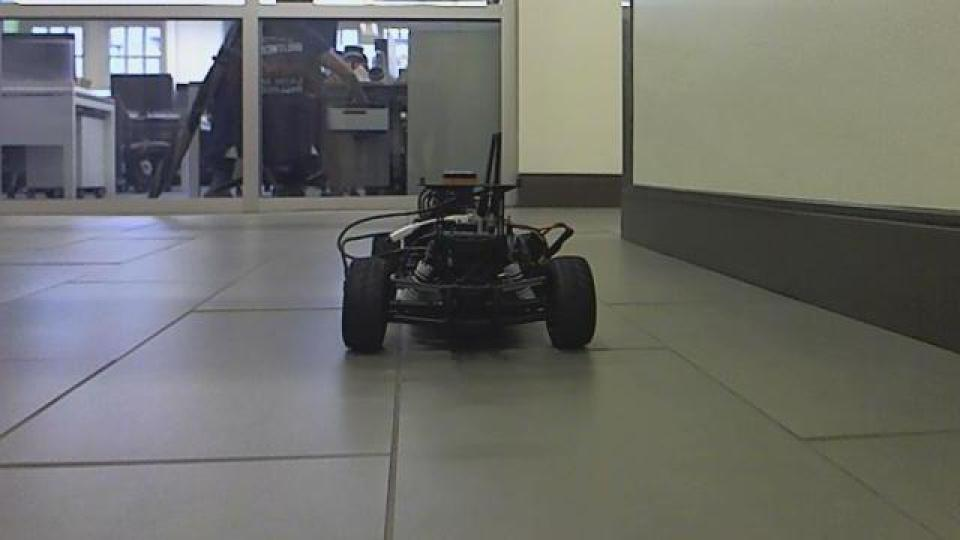car: (333, 171, 600, 355)
